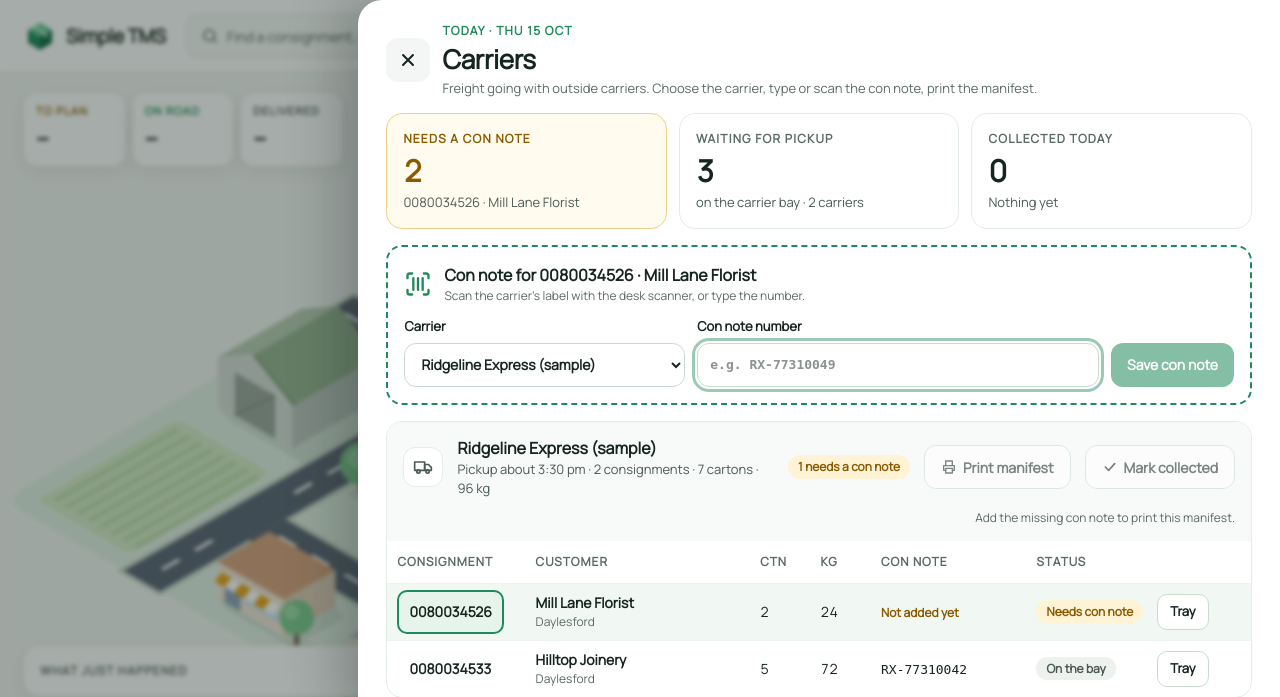
Test: Carriers › takes a scanned con note for the first that needs one, then goes on to the next
The image size is (1280, 697).
Expected: the text "Con note for 0080034526 · Mill Lane Florist" is shown, [444,263,805,287]
Expected: the dropdown labelled "Carrier" shows "Ridgeline Express (sample)", [404,342,685,386]
# a desk scanner types the label and presses Enter
Type " rx-77310049" into the field labelled "Con note number" at (898, 364), box [697,342,1099,386]
Then press Enter
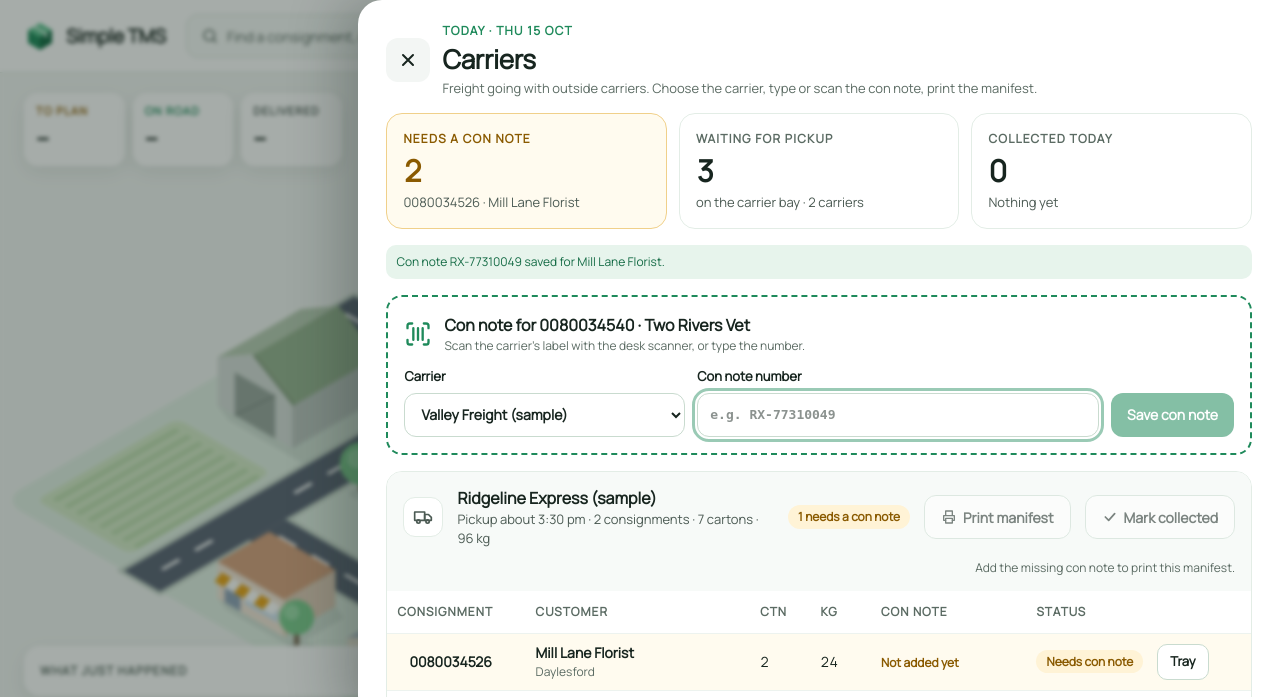
Expected: the field labelled "Con note number" is empty, [697,392,1099,436]
Expected: the text "Con note RX-77310049 saved for Mill Lane Florist." is shown, [386,245,1252,279]
Expected: the text "Con note for 0080034540 · Two Rivers Vet" is shown, [444,314,750,336]
